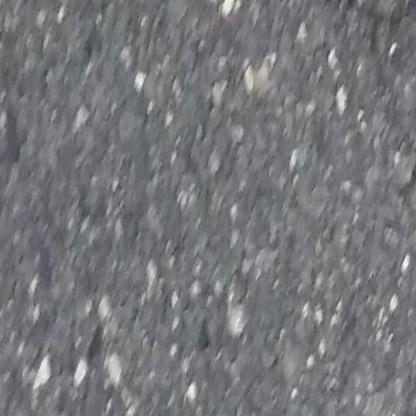Cracks: (320, 0, 416, 27)
